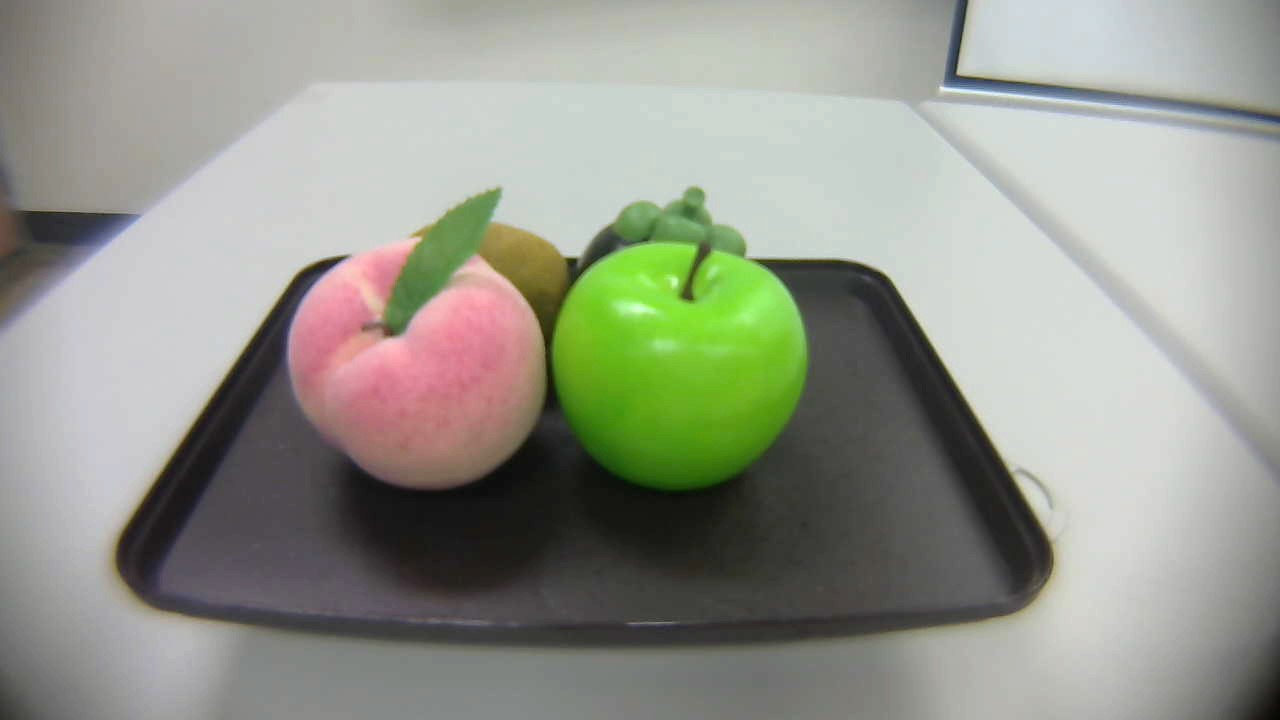green apple: (548, 231, 815, 504)
kiwi fruit: (429, 207, 583, 317)
mangosteen: (576, 186, 755, 283)
peach: (285, 184, 548, 488)
